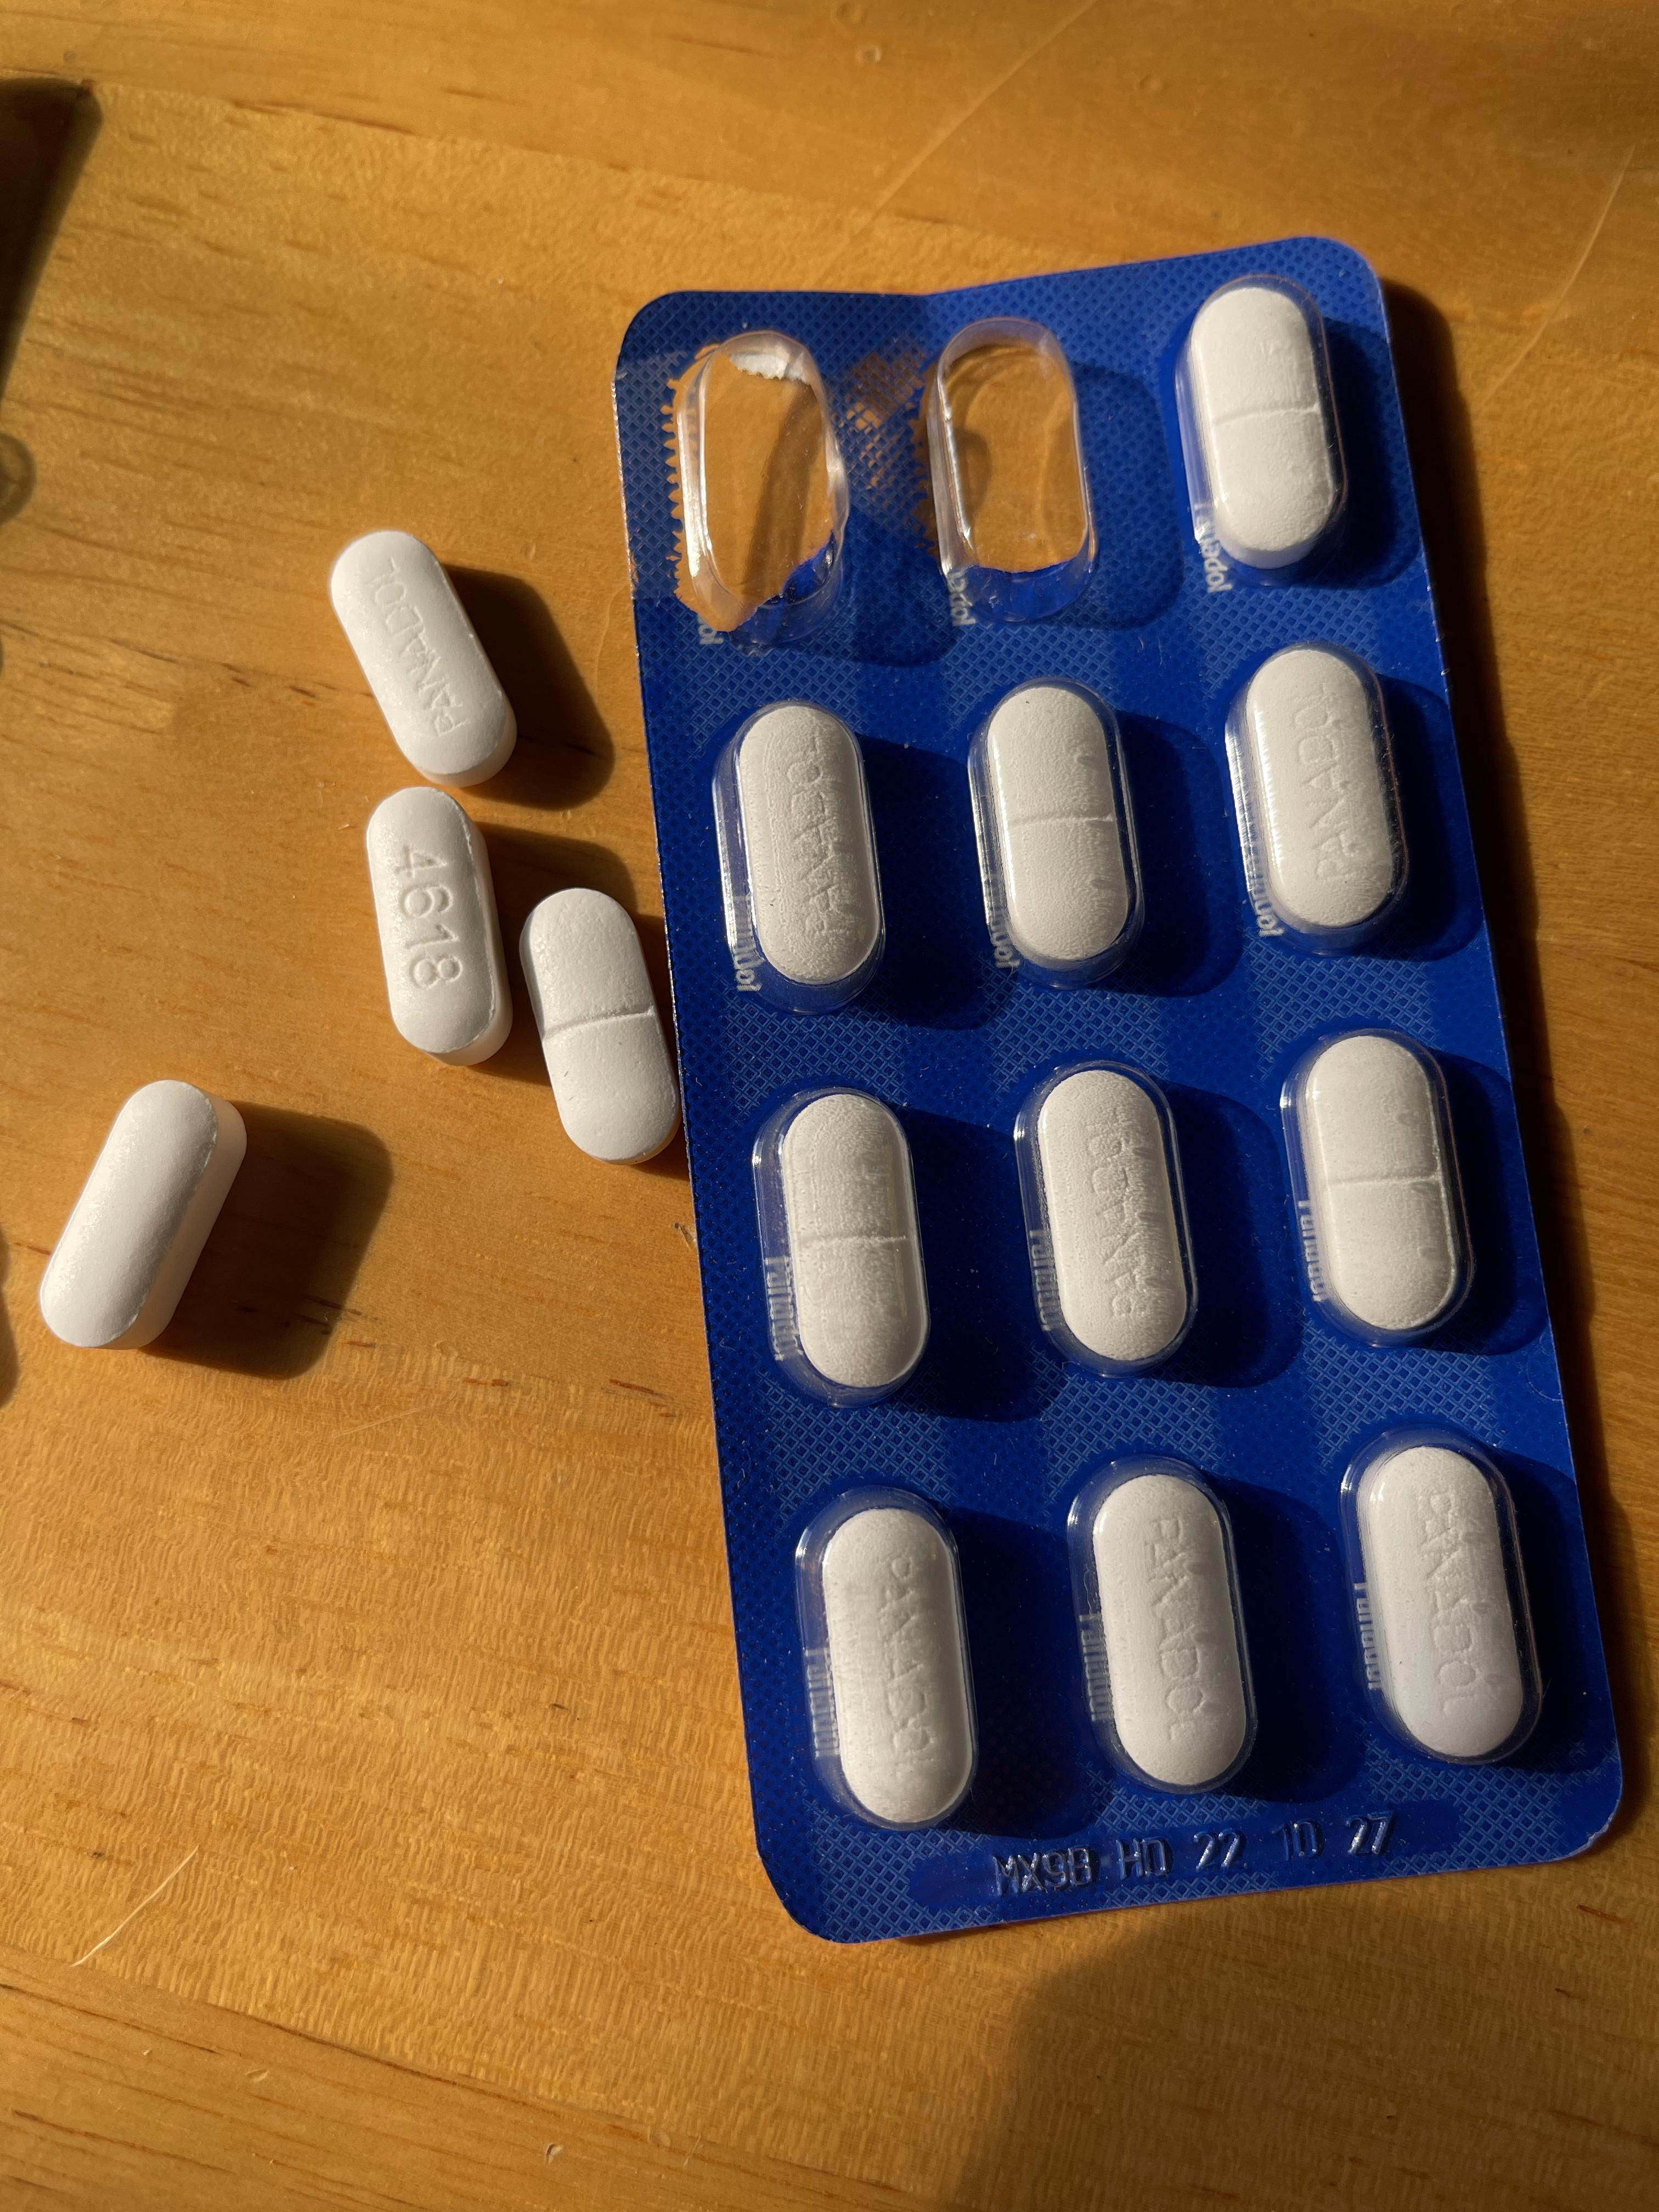Paracetamol_350mg: (1345, 1437, 1539, 1771), (1288, 1031, 1480, 1343), (1080, 1461, 1256, 1792), (1230, 641, 1420, 946), (1021, 1064, 1206, 1376), (807, 1498, 974, 1831), (720, 702, 885, 1019), (972, 681, 1141, 975), (1182, 282, 1349, 570), (772, 1096, 931, 1395), (331, 533, 516, 780), (519, 885, 678, 1153)
Paracetamol_500mg: (37, 1085, 246, 1350), (368, 789, 504, 1061)
